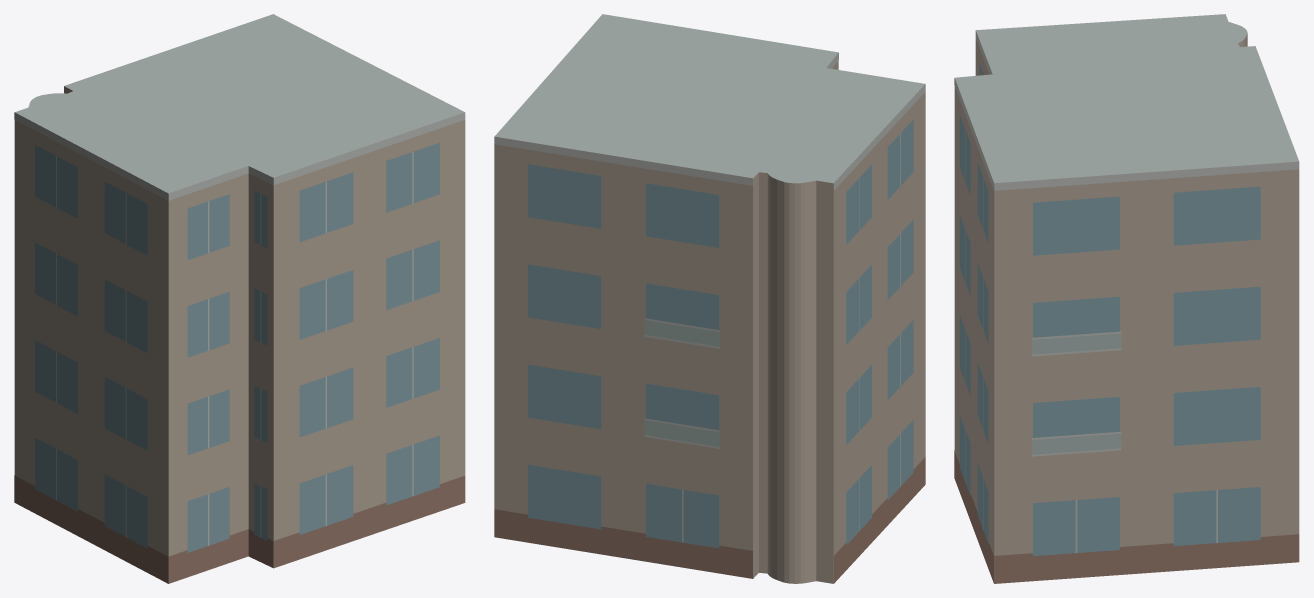
File: survey-upis-32702886.glb
The picture shows the model from 3 angles, left to right: view 1: azimuth 30°, elevation 25°; view 2: azimuth 150°, elevation 25°; view 3: azimuth 270°, elevation 25°; orthographic projection. The views are drawn at different scales.
Parts seen in each view (by area): view 1: survey-upis-32702886.tmp; view 2: survey-upis-32702886.tmp; view 3: survey-upis-32702886.tmp.
Boxes of the visible parts, left/top/right/bottom form: survey-upis-32702886.tmp: left=14, top=14, right=465, bottom=583; survey-upis-32702886.tmp: left=494, top=14, right=925, bottom=583; survey-upis-32702886.tmp: left=954, top=14, right=1299, bottom=583.
Size of the model in its own units: 11.61 by 12.8 by 10.
